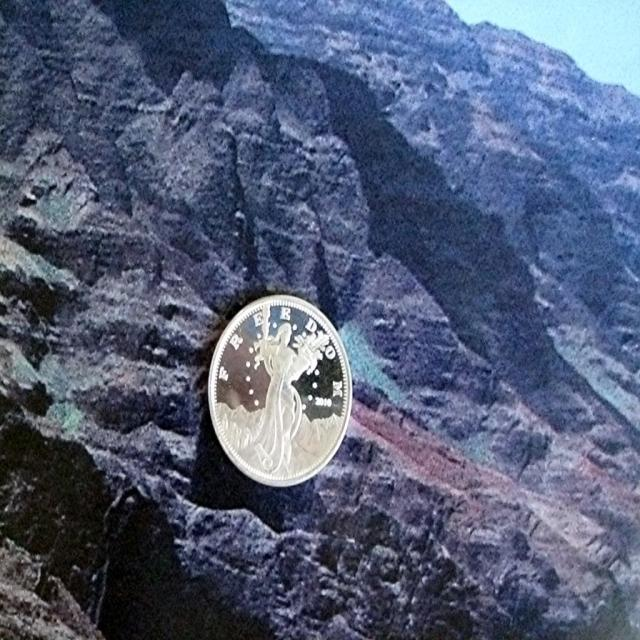Coin: (208, 290, 353, 489)
